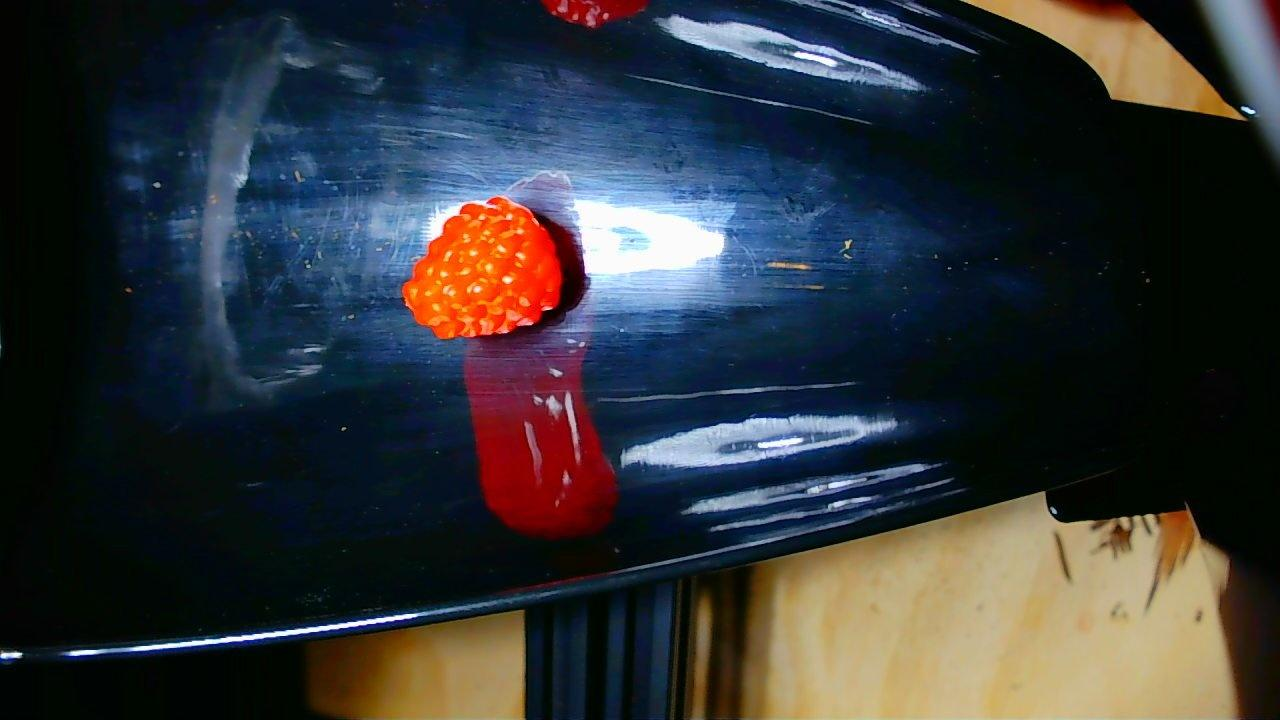berry: (403, 196, 562, 337)
